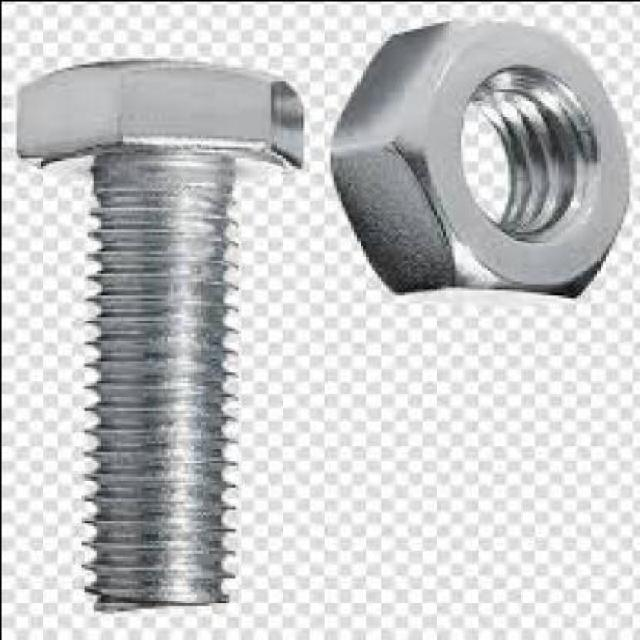METAL: (15, 60, 299, 612), (322, 27, 628, 299)
